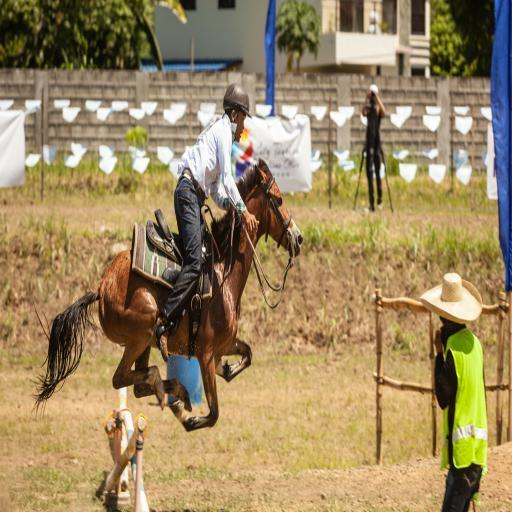horse: (28, 160, 304, 434)
